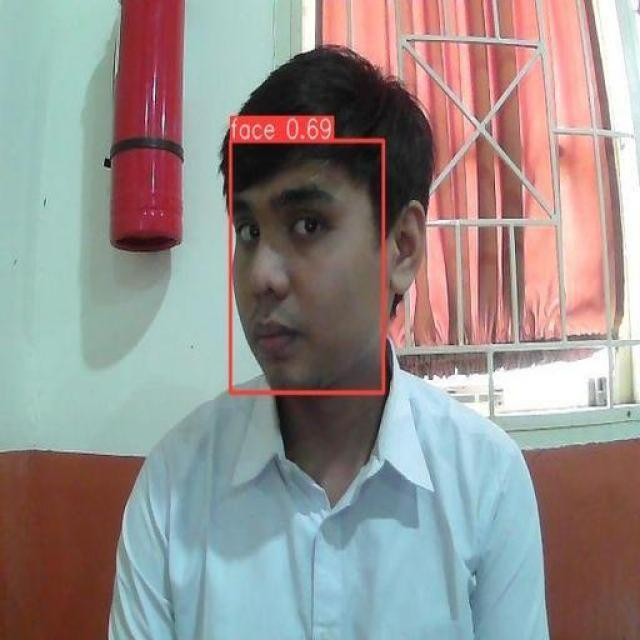bareface: (212, 67, 422, 398)
